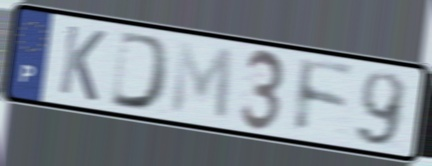3: (237, 46, 288, 135)
9: (352, 68, 413, 147)
D: (107, 28, 174, 115)
F: (293, 55, 358, 137)
K: (56, 22, 109, 105)
M: (168, 38, 236, 124)
